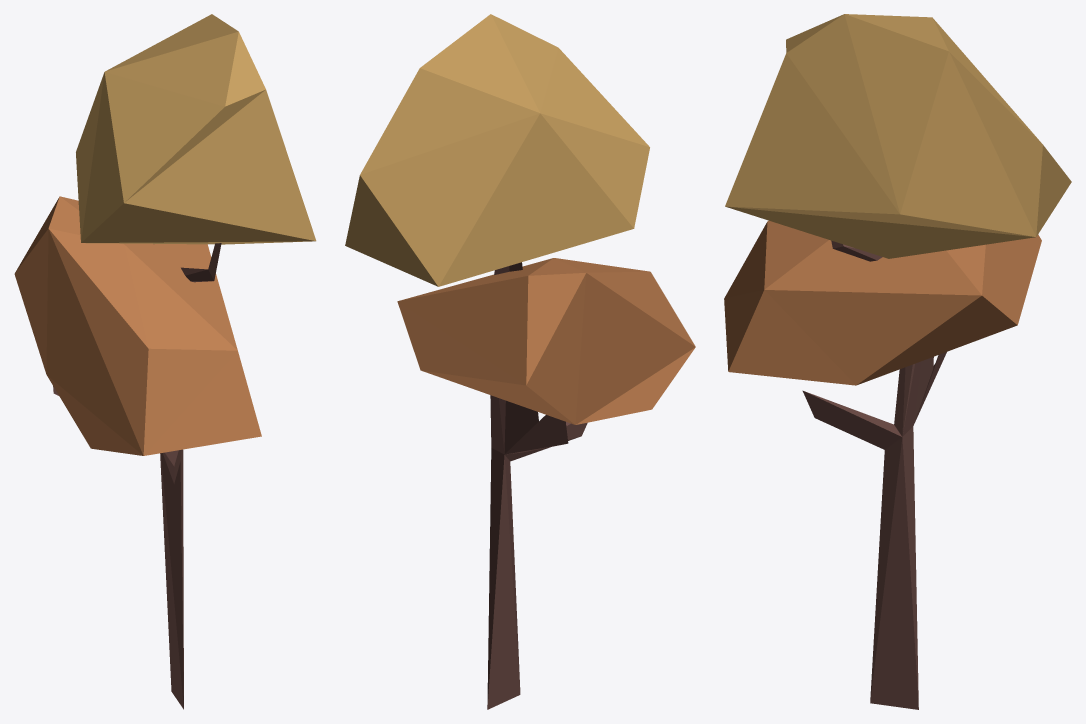
Rendered from CommonTree_Autumn_3.lod3.glb.
3 renders of one model, left to right at view 1: azimuth 30°, elevation 25°; view 2: azimuth 150°, elevation 25°; view 3: azimuth 270°, elevation 25°, orthographic. The views are drawn at different scales.
Visible parts, largest first — view 1: CommonTree_Autumn_3; view 2: CommonTree_Autumn_3; view 3: CommonTree_Autumn_3.
Boxes of the visible parts, left/top/right/bottom form: CommonTree_Autumn_3: left=14, top=14, right=316, bottom=709; CommonTree_Autumn_3: left=345, top=14, right=695, bottom=709; CommonTree_Autumn_3: left=724, top=14, right=1071, bottom=709.
Size of the model in its own units: 1.16 by 3.42 by 1.51.
